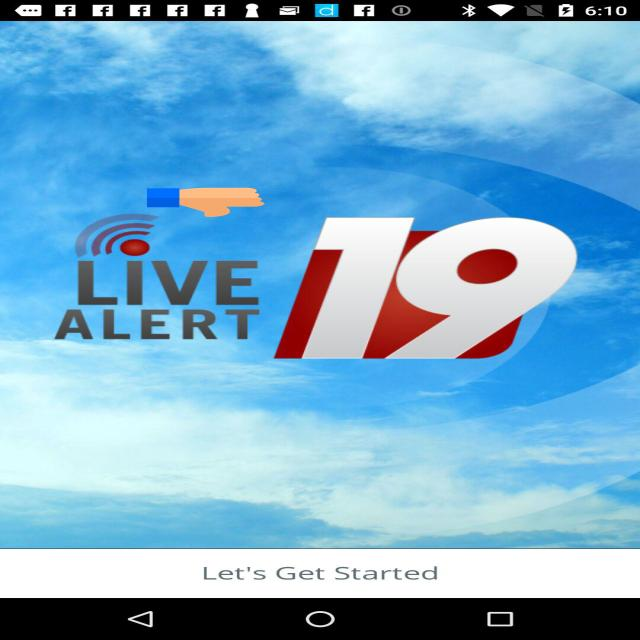obstruction: (147, 187, 264, 218)
